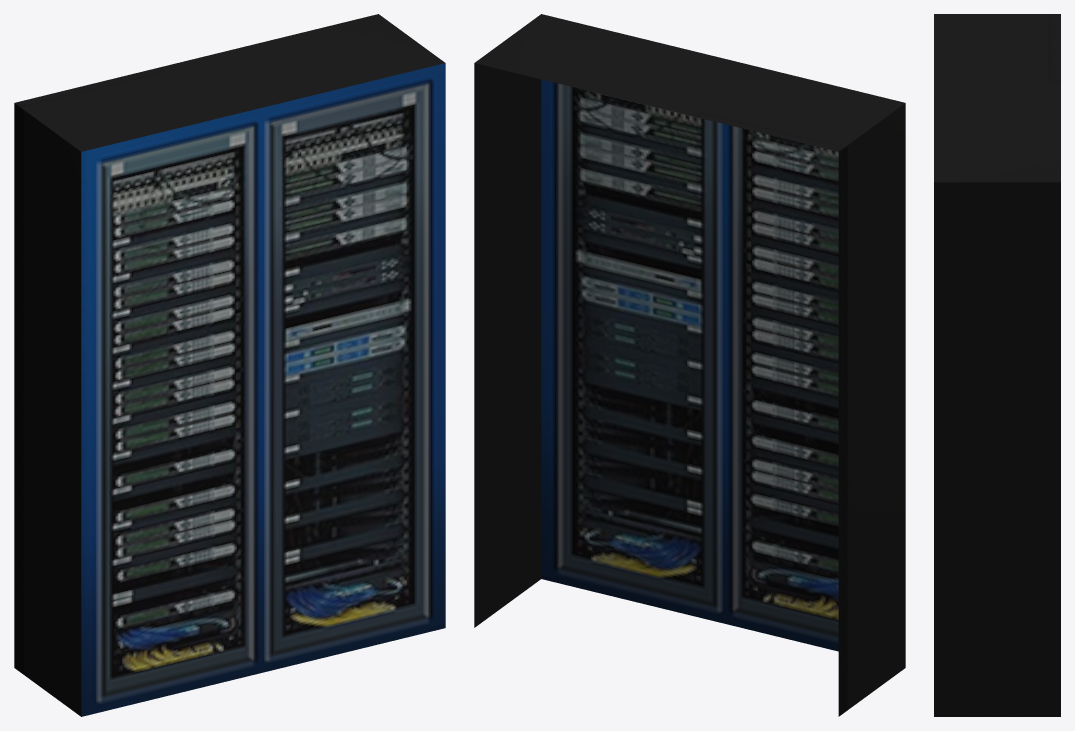
The model's file is Tx_prop_computerprop_computing.fbx.
3 renders of one model, left to right at view 1: azimuth 30°, elevation 25°; view 2: azimuth 150°, elevation 25°; view 3: azimuth 270°, elevation 25°, orthographic. The views are drawn at different scales.
Parts seen in each view (by area): view 1: Tx_prop_computerprop_computing; view 2: Tx_prop_computerprop_computing; view 3: Tx_prop_computerprop_computing.
Boxes of the visible parts, left/top/right/bottom form: Tx_prop_computerprop_computing: left=14, top=14, right=445, bottom=716; Tx_prop_computerprop_computing: left=474, top=14, right=905, bottom=716; Tx_prop_computerprop_computing: left=934, top=14, right=1060, bottom=716.
Bounding box in the file's own units: 13.17 × 19.52 × 4.2.
